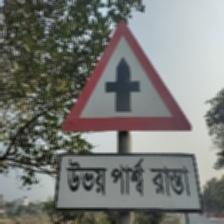Crossroad: (57, 19, 200, 223)
